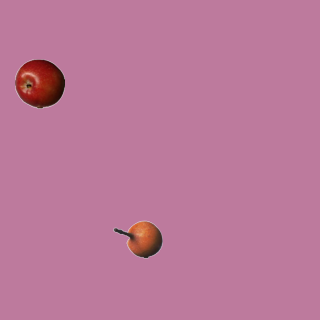Apple Braeburn: (14, 58, 64, 108)
Granadilla: (112, 214, 162, 264)
